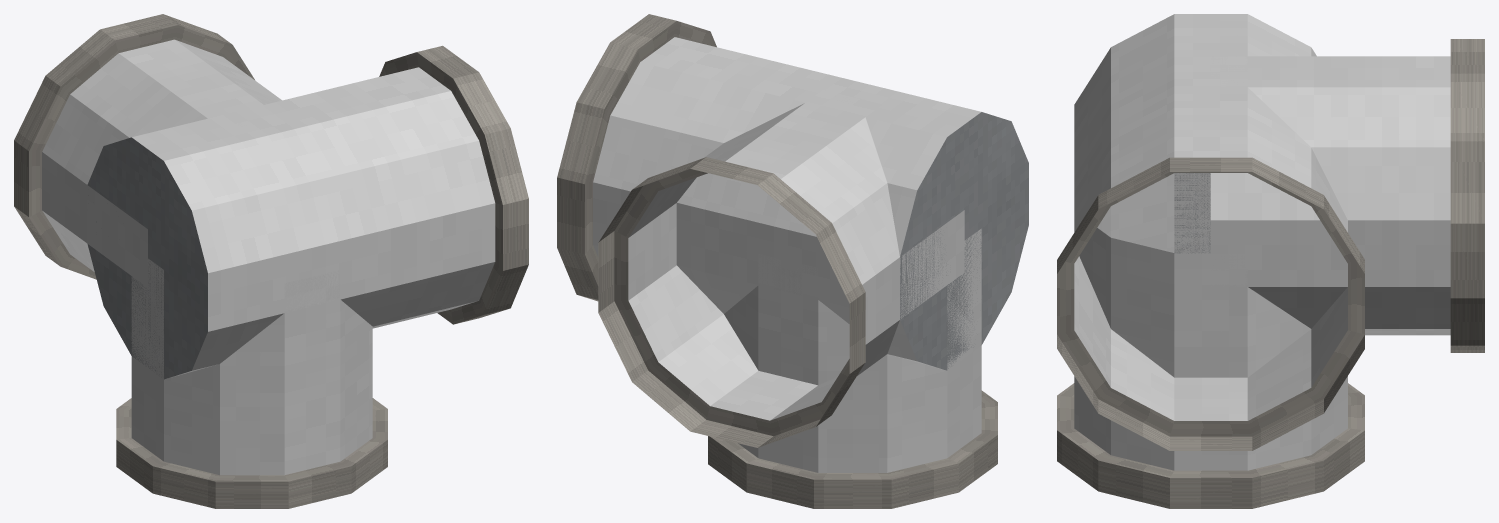
Rendered from connection_37.obj.
3 views of the same model, side by side, from view 1: azimuth 30°, elevation 25°; view 2: azimuth 150°, elevation 25°; view 3: azimuth 270°, elevation 25° (orthographic). The views are drawn at different scales.
Bounding box in the file's own units: 0.7812 × 0.7812 × 0.7812.
